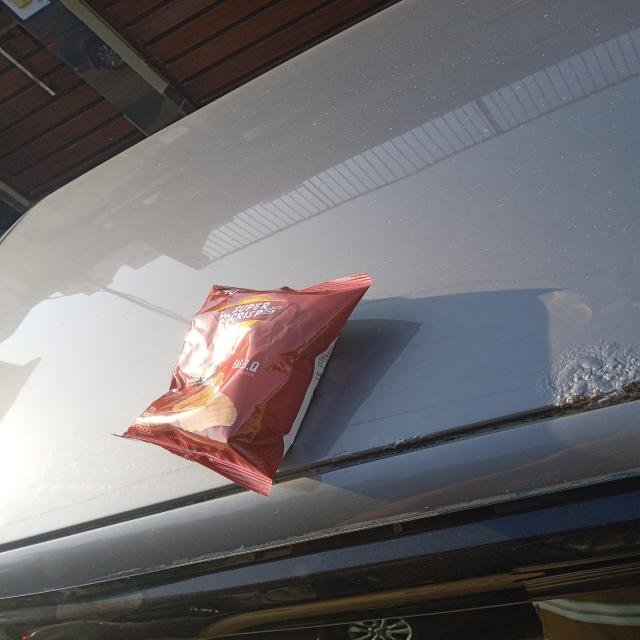Plastic: (114, 276, 373, 496)
